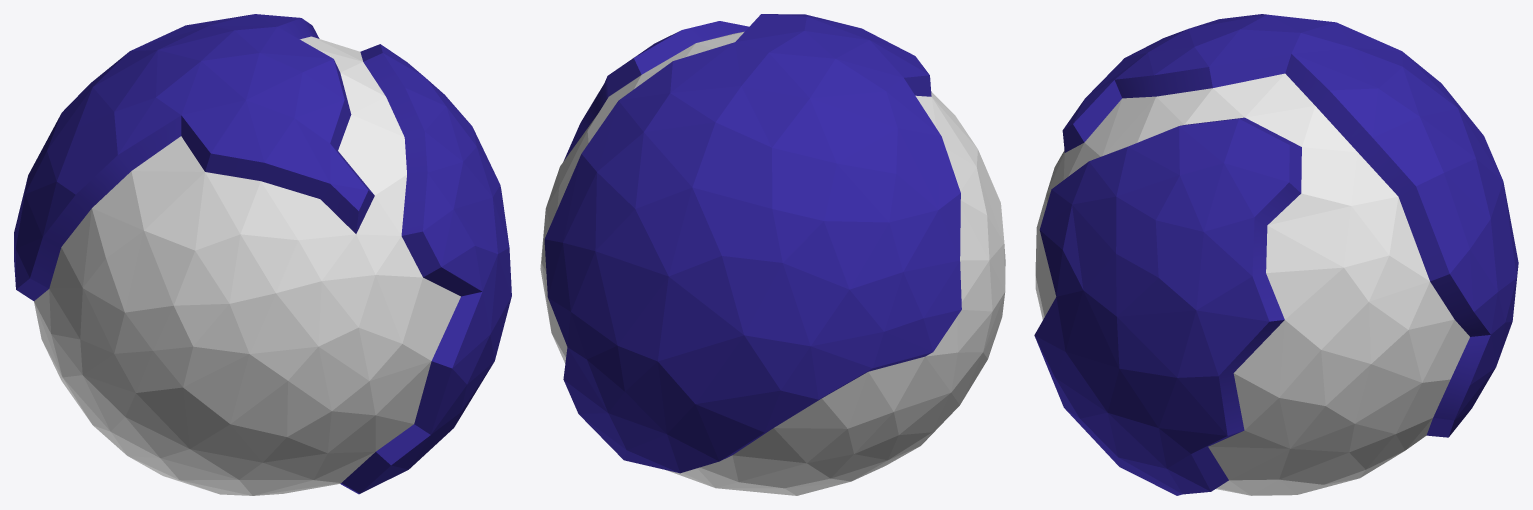
Rendered from planet2.fbx.
3 renders of one model, left to right at view 1: azimuth 30°, elevation 25°; view 2: azimuth 150°, elevation 25°; view 3: azimuth 270°, elevation 25°, orthographic.
Parts seen in each view (by area): view 1: pPlatonic10; view 2: pPlatonic10; view 3: pPlatonic10.
Boxes of the visible parts, x1,y1,x2,y2 form: pPlatonic10: (14,14,511,495); pPlatonic10: (540,14,1005,495); pPlatonic10: (1034,14,1518,495).
Size of the model in its own units: 37.73 by 37.18 by 37.47.
